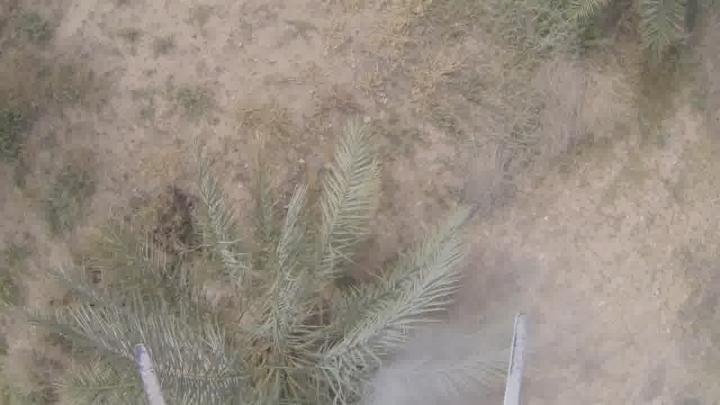Date-Palm-Crown: (132, 247, 422, 405)
